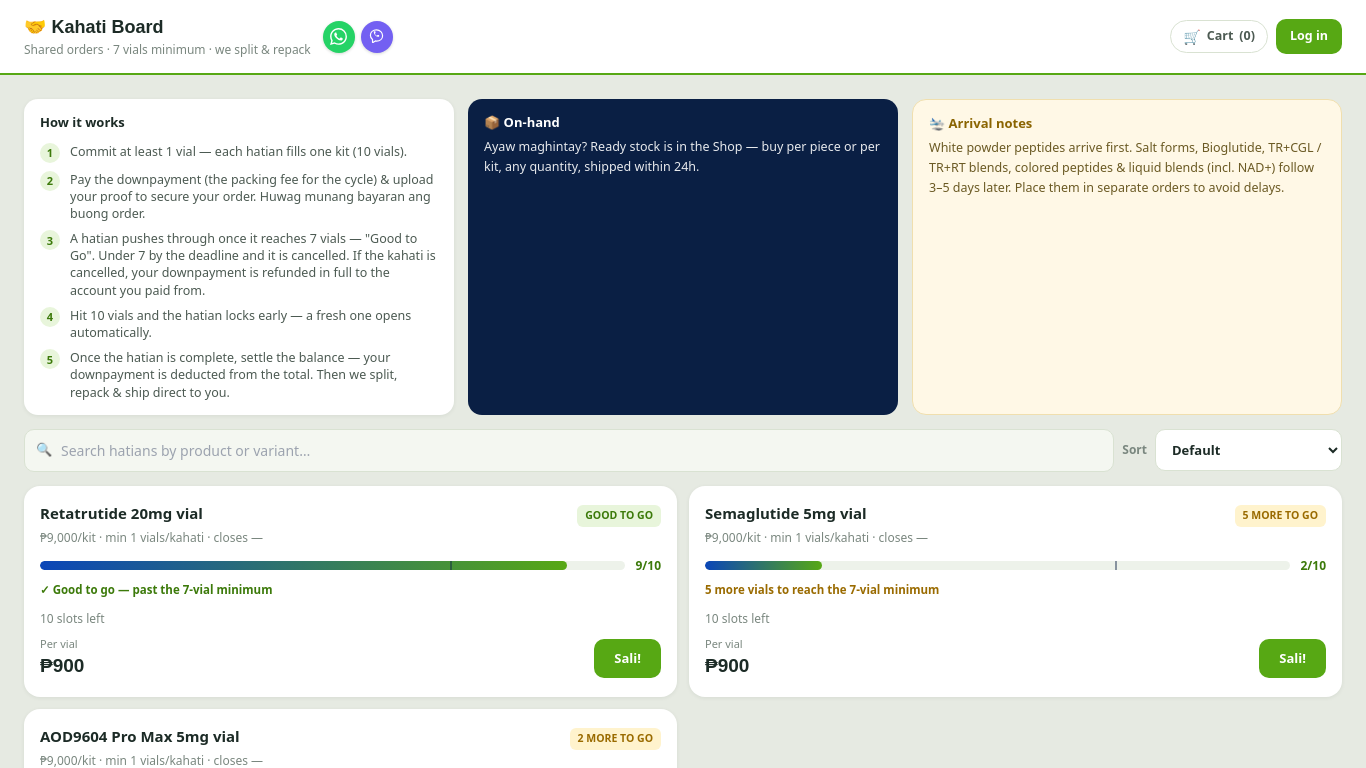
Test: KahatiPage — search › says the search found nothing rather than showing the whole board
The width and height of the screenshot is (1366, 768).
Step 1. Type "insulin" into the search field → (569, 450), box [24,429,1114,472]
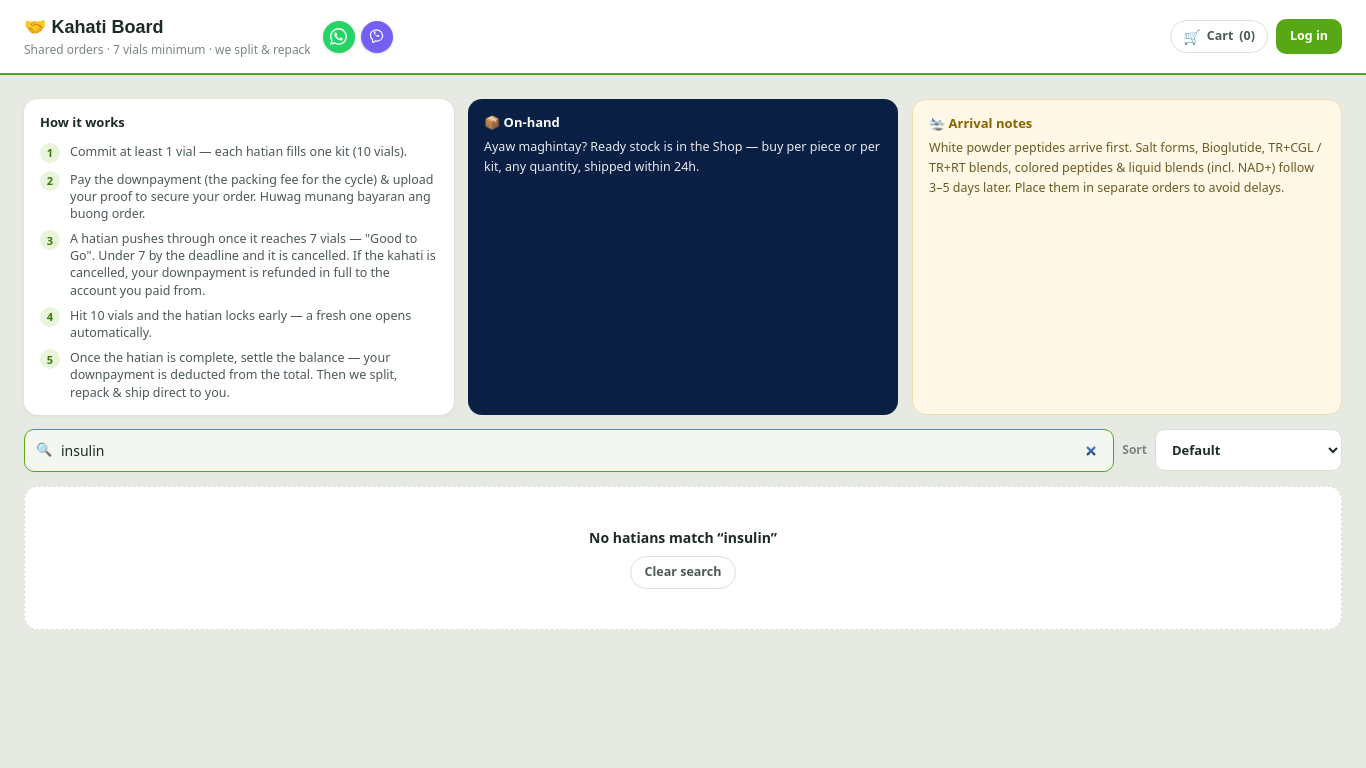
Now the text "No hatians match “insulin”" is shown, box [589,528,777,547]
